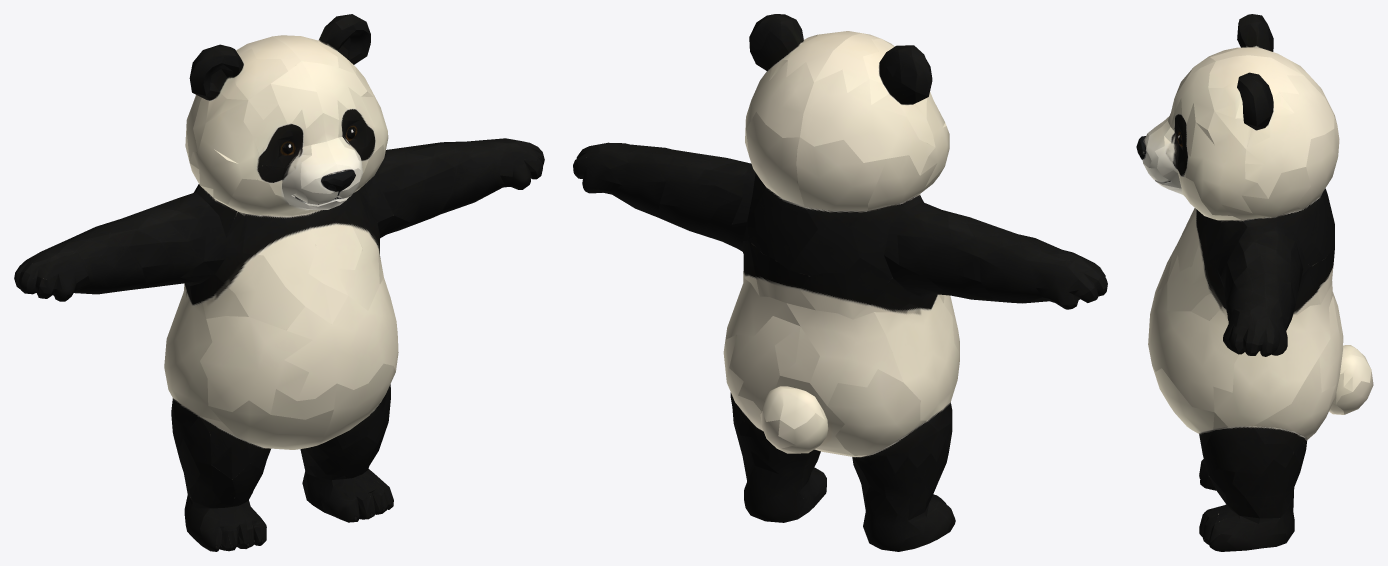
File: panda-tpose.glb
3 renders of one model, left to right at view 1: azimuth 30°, elevation 25°; view 2: azimuth 150°, elevation 25°; view 3: azimuth 270°, elevation 25°, orthographic. The views are drawn at different scales.
Visible parts, largest first — view 1: output_unwrapped; view 2: output_unwrapped; view 3: output_unwrapped.
Part boxes in pixels (<box>): output_unwrapped: <box>14,14,544,551</box>; output_unwrapped: <box>573,14,1107,551</box>; output_unwrapped: <box>1136,14,1373,551</box>.
Size of the model in its own units: 1.9 by 1.7 by 0.7817.
Materials: 1 (1 with a texture image).
